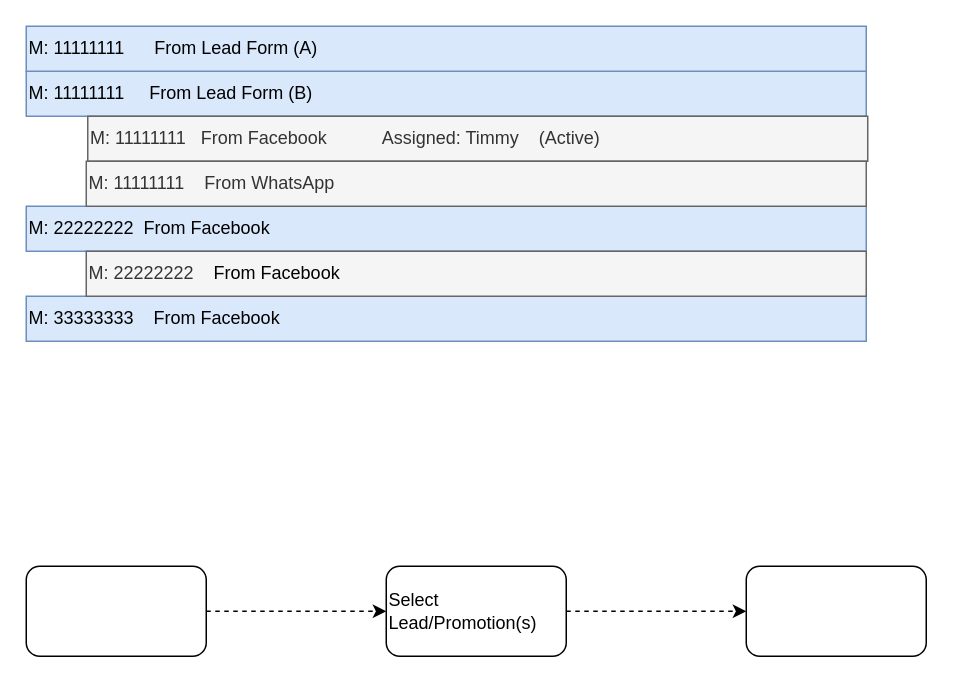
The diagram is 953 pixels wide and 683 high, and some of its shapes have lost their labels. The shapes that lost their labels are listed below. From the top down, each one's centre as x and y in pixels, then its label:
At pixel 115 610: "Mobile".
At pixel 835 610: "Complete Profile".
